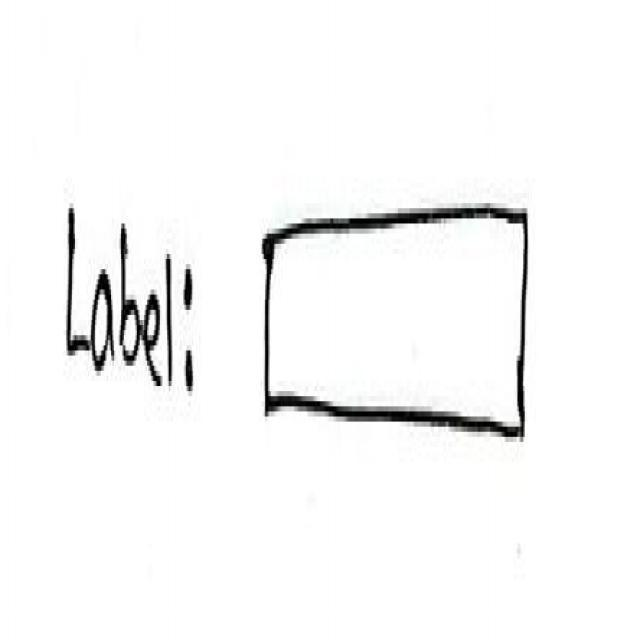textbox: (255, 170, 539, 481)
